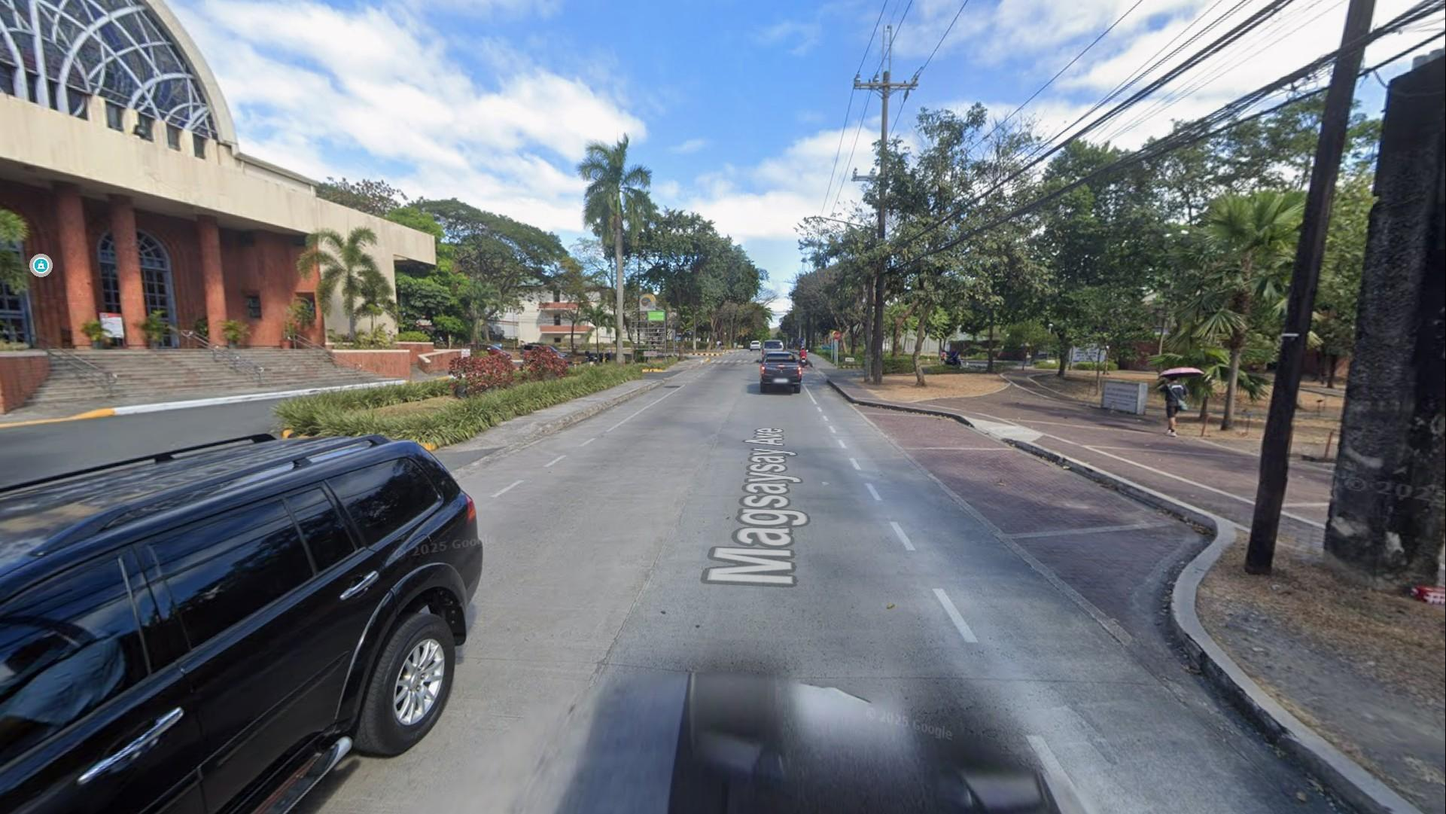pedestrian: (1161, 371, 1188, 438), (715, 338, 722, 353)
